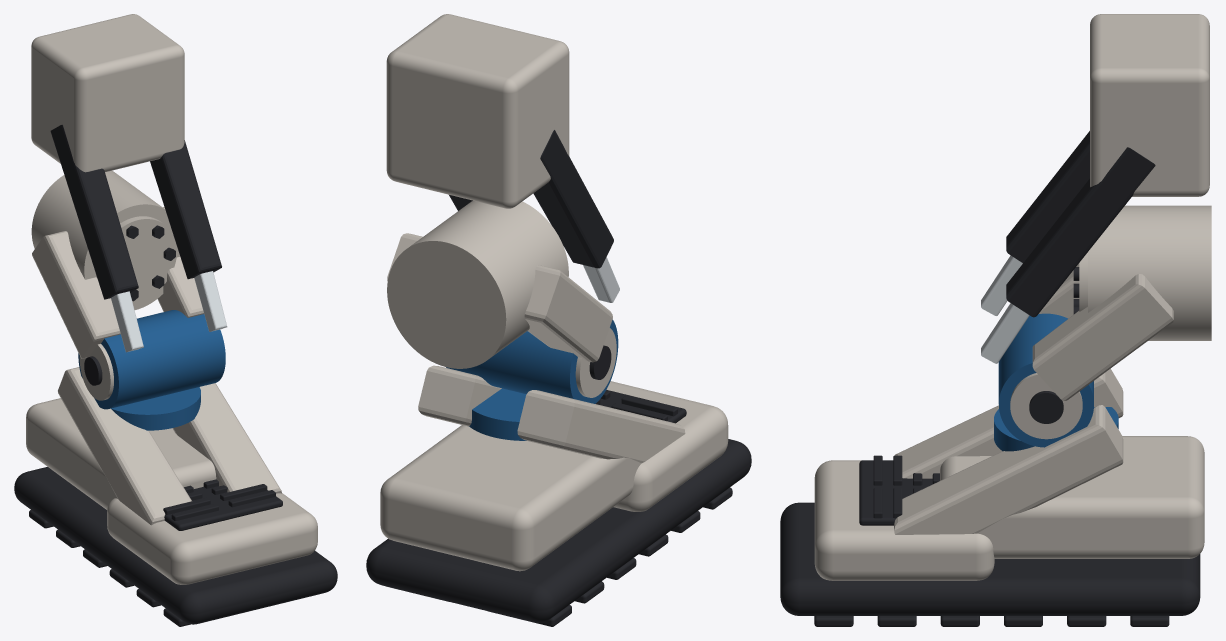
The model's file is anatomy-25.glb.
3 views of the same model, side by side, from view 1: azimuth 30°, elevation 25°; view 2: azimuth 150°, elevation 25°; view 3: azimuth 270°, elevation 25° (orthographic). The views are drawn at different scales.
Parts seen in each view (by area): view 1: shin, arch, pitch, sole, pushrod, toe, roll, toe-insert, pads; view 2: arch, shin, pitch, sole, roll, toe, pushrod, pads, toe-insert; view 3: arch, pitch, sole, shin, pushrod, toe, roll, pads, toe-insert.
Part boxes in pixels (x1=…): shin: x1=31, y1=14, x2=184, y2=172; arch: x1=26, y1=367, x2=281, y2=525; pitch: x1=31, y1=170, x2=203, y2=358; sole: x1=14, y1=467, x2=337, y2=624; pushrod: x1=50, y1=124, x2=227, y2=352; toe: x1=107, y1=486, x2=317, y2=584; roll: x1=78, y1=310, x2=225, y2=430; toe-insert: x1=163, y1=479, x2=275, y2=520; pads: x1=29, y1=510, x2=190, y2=626; arch: x1=380, y1=365, x2=685, y2=571; shin: x1=386, y1=14, x2=569, y2=208; pitch: x1=387, y1=200, x2=612, y2=368; sole: x1=366, y1=439, x2=751, y2=622; roll: x1=446, y1=319, x2=618, y2=440; toe: x1=600, y1=381, x2=728, y2=511; pushrod: x1=449, y1=130, x2=619, y2=302; pads: x1=386, y1=487, x2=732, y2=626; toe-insert: x1=595, y1=390, x2=677, y2=421; arch: x1=894, y1=368, x2=1204, y2=558; pitch: x1=1032, y1=205, x2=1211, y2=400; sole: x1=780, y1=502, x2=1200, y2=615; shin: x1=1090, y1=14, x2=1209, y2=196; pushrod: x1=981, y1=131, x2=1155, y2=363; toe: x1=814, y1=460, x2=994, y2=580; roll: x1=994, y1=313, x2=1118, y2=451; pads: x1=814, y1=616, x2=1169, y2=626; toe-insert: x1=873, y1=455, x2=939, y2=518.
Bounding box in the file's own units: 0.6 × 1.71 × 1.22.
